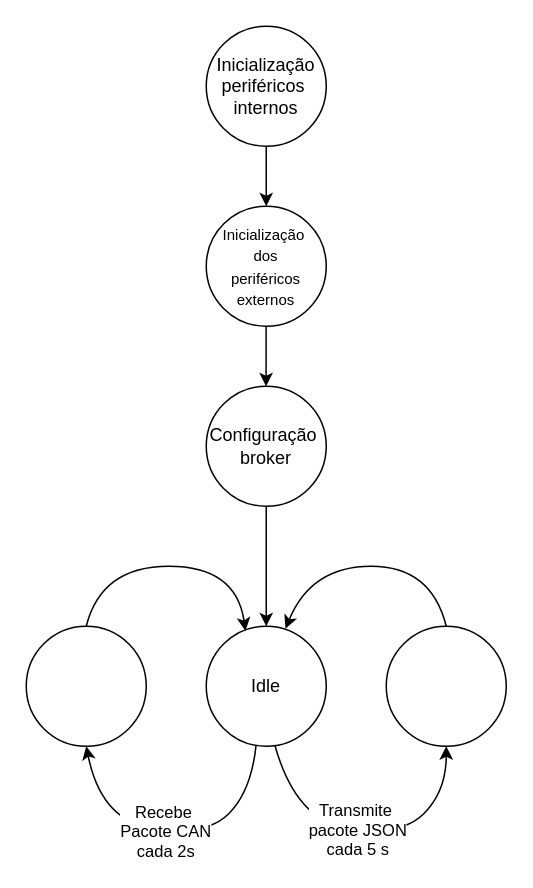
The diagram is 533 pixels wide and 888 high, and some of its shapes have lost their labels. The shapes that lost their labels are listed below. From the top down, each one's centre as x and y in pixels, then its label:
(x=85, y=685): Recepção CAN
(x=445, y=685): Transmissão JSON
